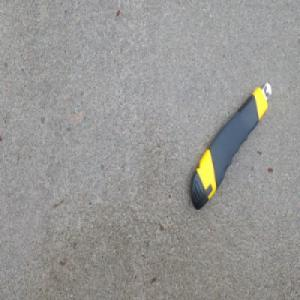Cutter: (189, 81, 272, 212)
